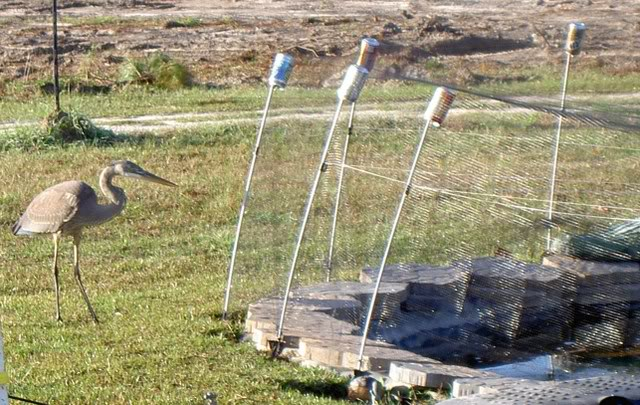heron: (11, 158, 181, 323)
